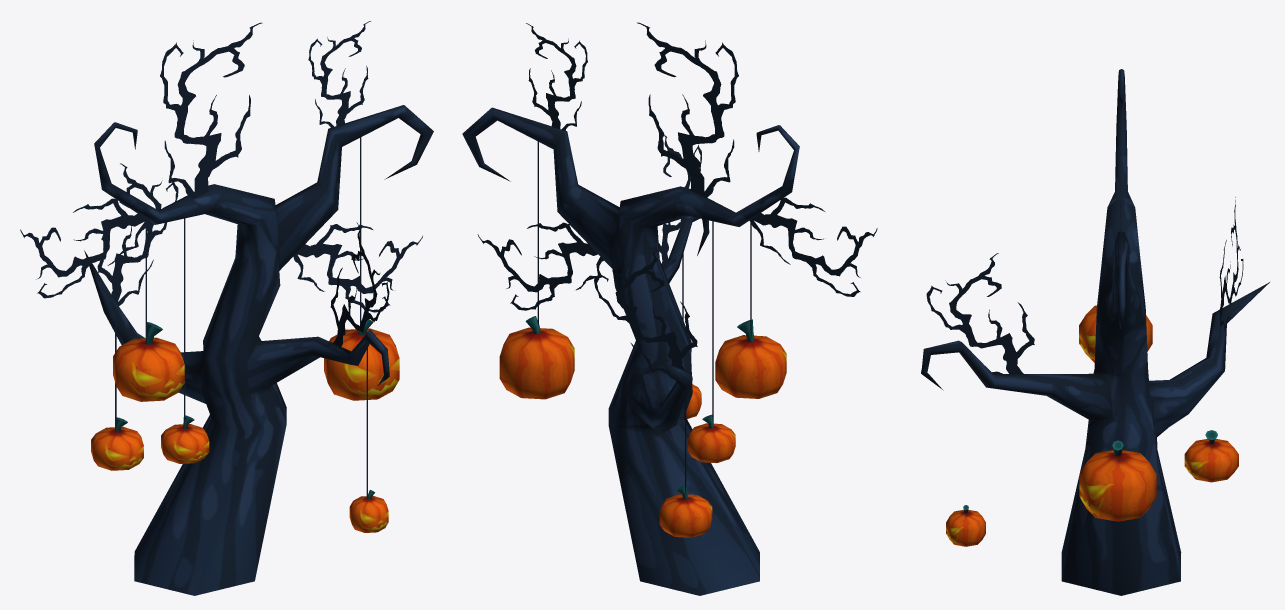
File: Tree5.FBX
The picture shows the model from 3 angles, left to right: view 1: azimuth 30°, elevation 25°; view 2: azimuth 150°, elevation 25°; view 3: azimuth 270°, elevation 25°; orthographic projection.
Parts seen in each view (by area): view 1: Tree5; view 2: Tree5; view 3: Tree5.
Boxes of the visible parts, <box> form: Tree5: <box>20,21,433,595</box>; Tree5: <box>462,22,877,595</box>; Tree5: <box>921,69,1269,595</box>.
Bounding box in the file's own units: 266 × 324 × 198.
